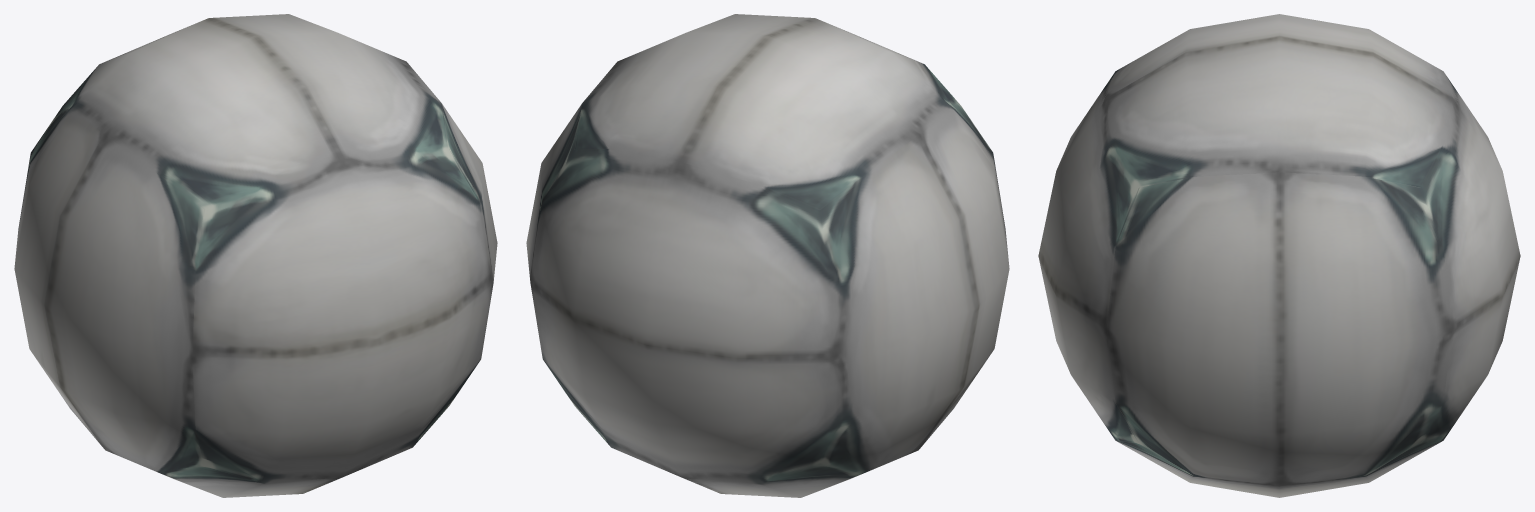
The model's file is ball_02.fbx.
3 views of the same model, side by side, from view 1: azimuth 30°, elevation 25°; view 2: azimuth 150°, elevation 25°; view 3: azimuth 270°, elevation 25° (orthographic).
Parts seen in each view (by area): view 1: ball_02; view 2: ball_02; view 3: ball_02.
Part boxes in pixels (left/top/right/bottom): ball_02: left=14, top=14, right=497, bottom=497; ball_02: left=526, top=14, right=1009, bottom=497; ball_02: left=1038, top=14, right=1520, bottom=497.
Bounding box in the file's own units: 43.15 × 43.15 × 43.15.
